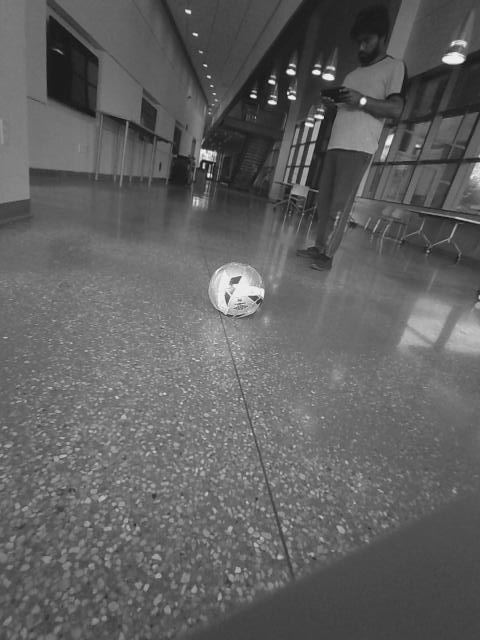ball: (207, 258, 271, 321)
